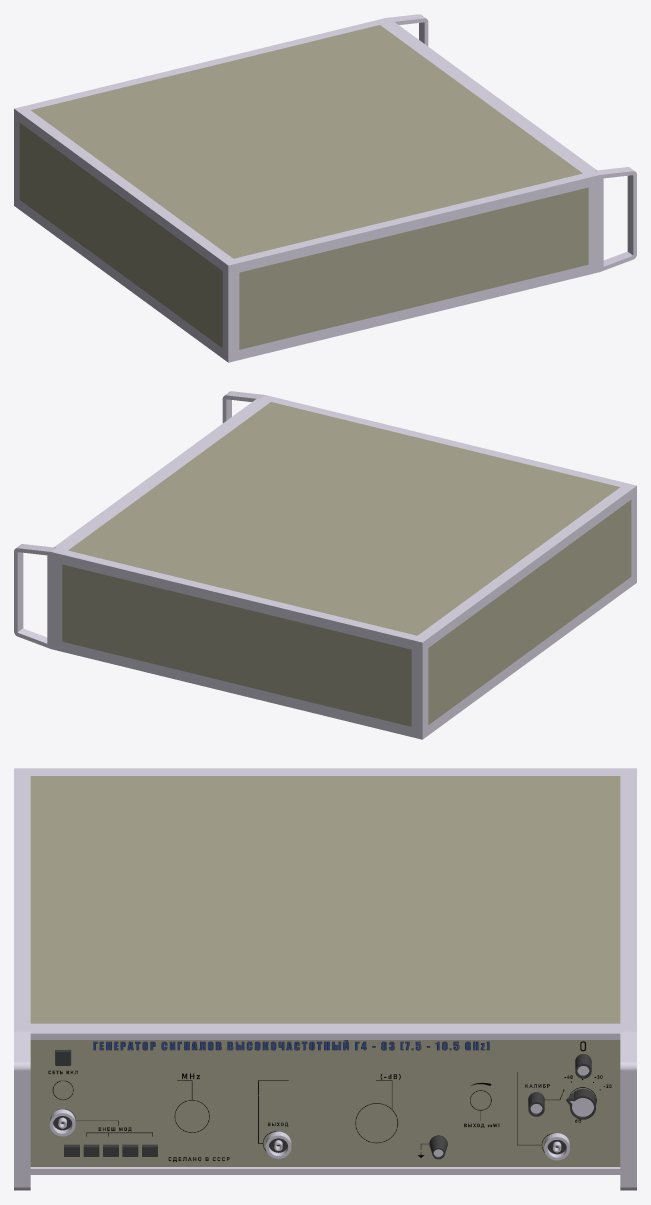
Rendered from СВЧ генератор Г4-83 v2.fbx.
3 renders of one model, top to bottom at view 1: azimuth 30°, elevation 25°; view 2: azimuth 150°, elevation 25°; view 3: azimuth 270°, elevation 25°, orthographic. The views are drawn at different scales.
Parts seen in each view (by area): view 1: стенки свч, Cube.004, Cube.003, Cube.005, ручки, грани лч, Cube; view 2: стенки свч, Cube.004, Cube.003, Cube.005, ручки, грани лч; view 3: стенки свч, лицевая часть, Cube.003, грани лч, ручки, Выход, Кнопки.
Boxes of the visible parts, box(x1,y1,x2,y2) form: стенки свч: box(19, 25, 588, 349); Cube.004: box(19, 113, 588, 359); Cube.003: box(14, 18, 599, 362); Cube.005: box(14, 109, 599, 362); ручки: box(386, 14, 636, 271); грани лч: box(391, 21, 596, 170); Cube: box(627, 175, 633, 255); стенки свч: box(62, 402, 631, 726); Cube.004: box(62, 490, 631, 736); Cube.003: box(51, 395, 636, 642); Cube.005: box(51, 486, 636, 739); ручки: box(14, 391, 264, 648); грани лч: box(54, 398, 259, 547); стенки свч: box(30, 776, 620, 1023); лицевая часть: box(30, 1040, 620, 1166); Cube.003: box(14, 768, 636, 1031); грани лч: box(30, 1031, 620, 1174); ручки: box(14, 1031, 636, 1190); Выход: box(49, 1109, 569, 1160); Кнопки: box(64, 1144, 157, 1156).
Bounding box in the file's own units: 44 × 10 × 40.
4 materials, 1 textured.
